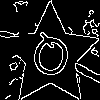Q: (25, 30, 75, 89)
